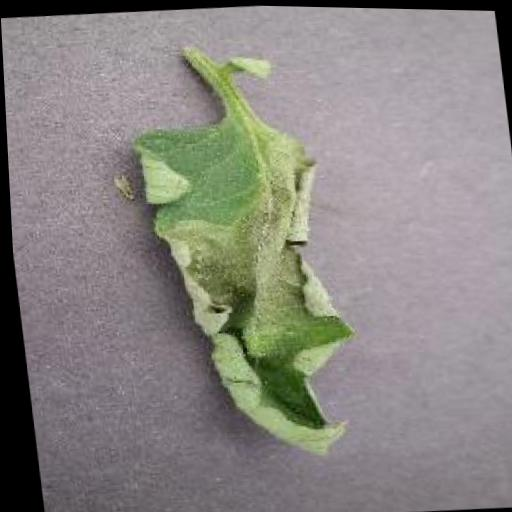Late Blight: (119, 104, 368, 470)
